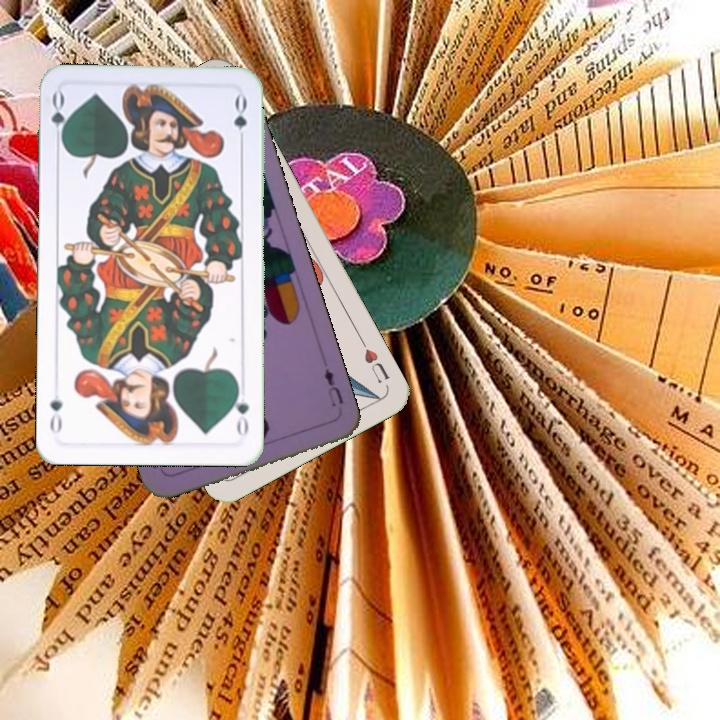EU: (320, 364, 346, 410)
GO: (47, 89, 72, 148), (229, 381, 252, 440)
HU: (356, 335, 392, 386)
